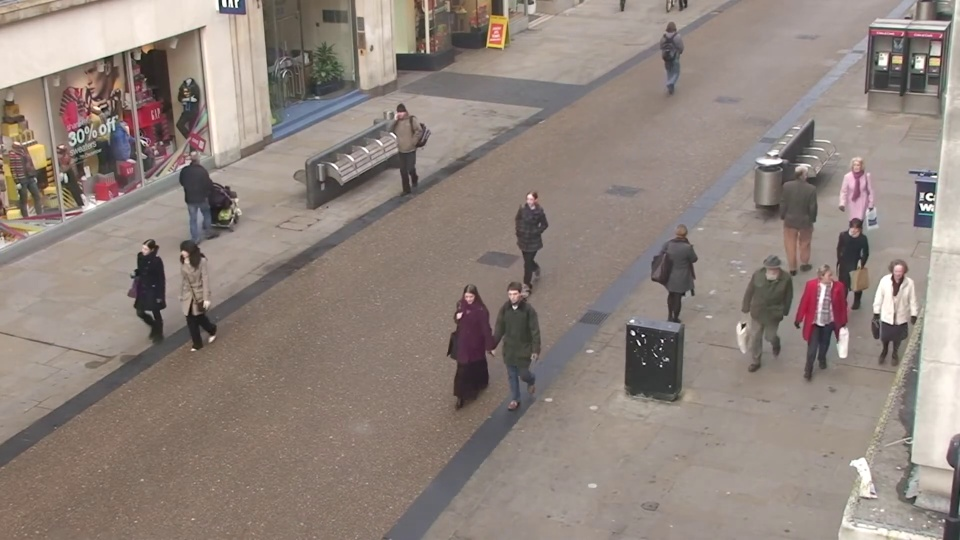pedestrian: (863, 259, 918, 395), (792, 263, 842, 398), (120, 238, 173, 363), (741, 259, 789, 393), (160, 240, 211, 366), (442, 280, 488, 419), (488, 281, 533, 421), (822, 215, 870, 338), (661, 216, 702, 339), (833, 156, 876, 264), (782, 159, 822, 267), (508, 187, 545, 303), (186, 144, 226, 245), (382, 105, 415, 197), (661, 17, 685, 86)
